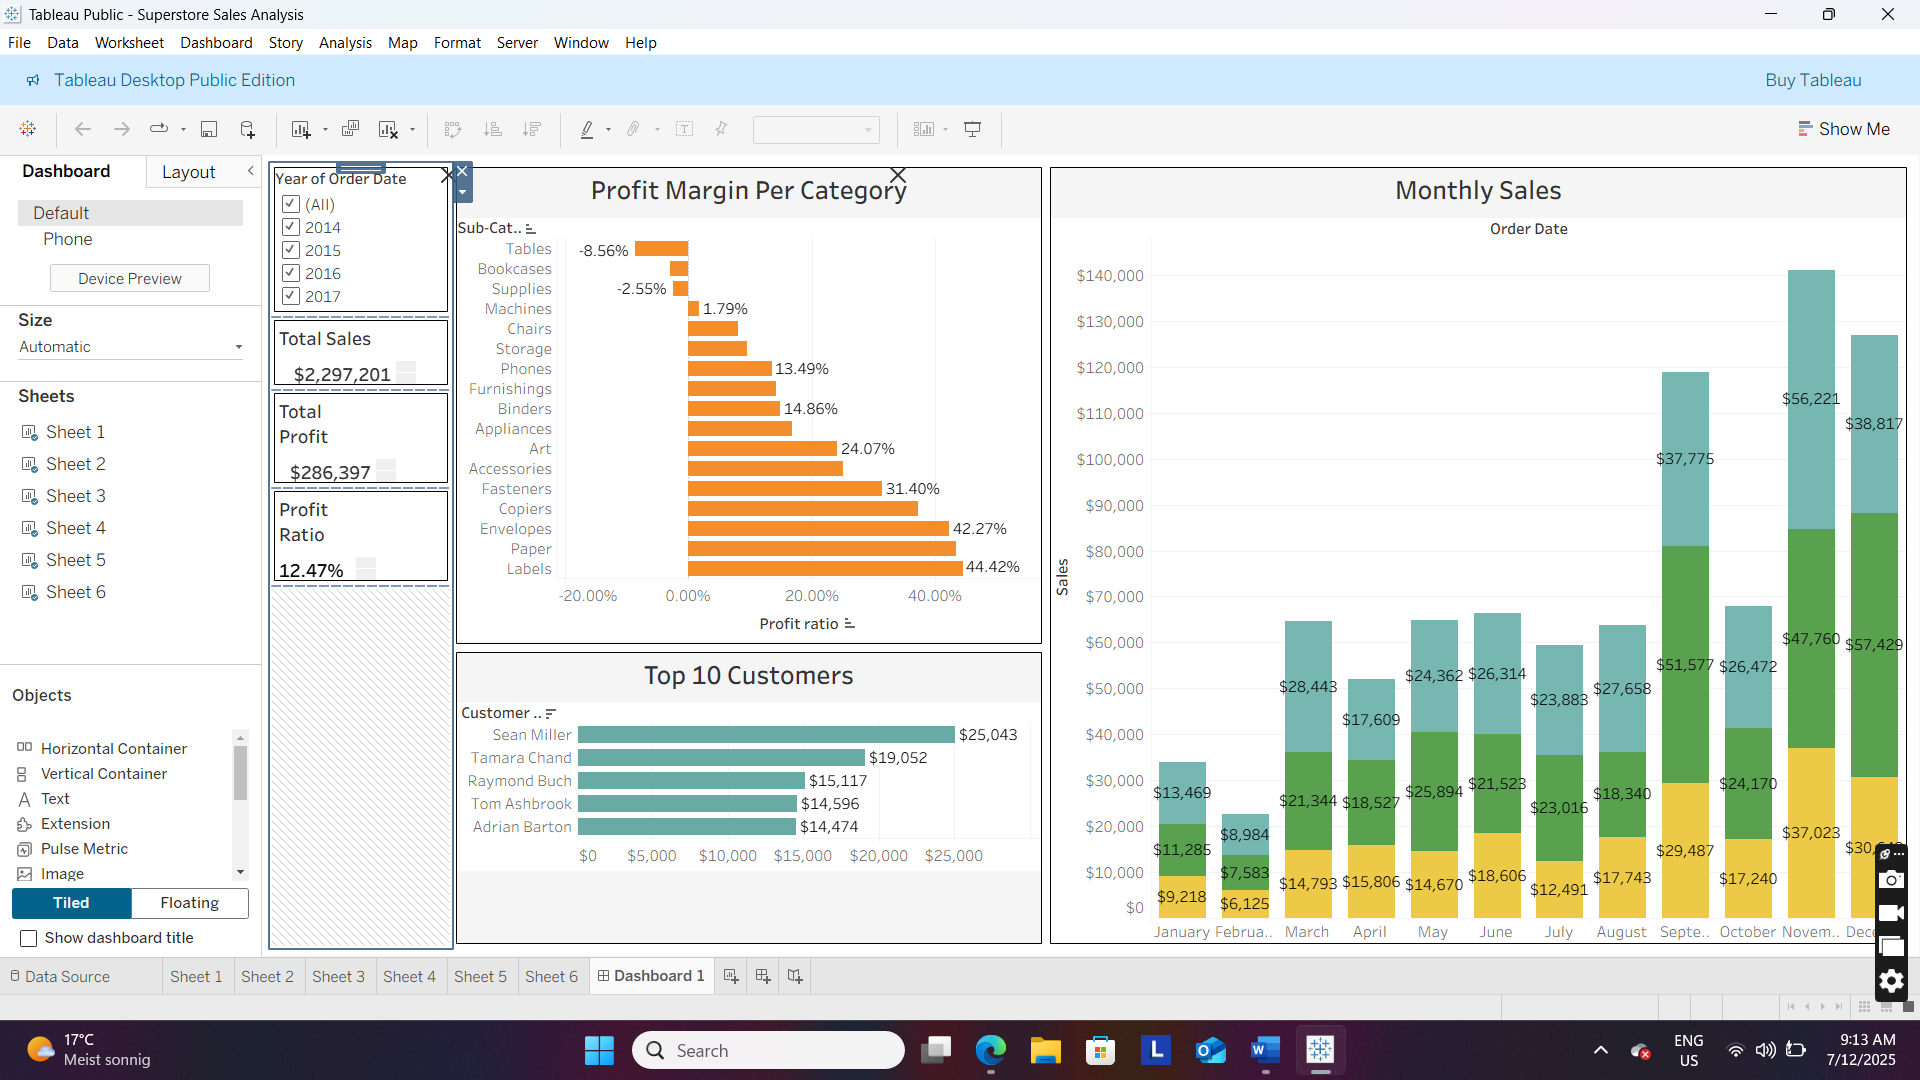

What the dashboard file says about the page in this screenshot:
{"tool":"tableau","page":{"name":"Dashboard 1","canvas":[1000,1000],"units":"permille","ordinal":0},"visuals":[{"type":"filter","title":"Sheet 1","param":"[federated.1v2qi7h1o6mk3v19wd5ka1uukvlk].[yr:Order Date:ok]","box":[4.8,10,109.8,191]},{"type":"dashboard-object","box":[105.6,10,14.5,30]},{"type":"worksheet","title":"Sheet 3","mark":"Automatic","rows":["Sub-Category"],"cols":["Calculation_1434115036089946115"],"box":[114.7,10,358.4,605.5]},{"type":"dashboard-object","box":[376.6,10,14.5,30]},{"type":"worksheet","title":"Sheet 1","mark":"Bar","rows":["Sales"],"cols":["Order Date"],"box":[473.1,10,522.1,980]},{"type":"worksheet","title":"Sheet 4","mark":"Automatic","box":[4.8,201,109.8,91.1]},{"type":"worksheet","title":"Sheet 5","mark":"Automatic","box":[4.8,292.1,109.8,122.4]},{"type":"worksheet","title":"Sheet 6","mark":"Automatic","box":[4.8,414.5,109.8,122.4]},{"type":"worksheet","title":"Sheet 2","mark":"Automatic","rows":["Customer Name"],"cols":["Sales"],"box":[114.7,615.5,358.4,374.5]}]}

Visuals, with their boxes on the dashboard's canvas, which has no fixed pixel size, in thousandths of its width and height (x1, y1, x2, y2). These are canvas units, not pixel positions in the 1920x1080 screenshot, which may show the page scaled, cropped or inside an application window:
"Sheet 1" filter: [5, 10, 115, 201]
dashboard-object: [106, 10, 120, 40]
"Sheet 3" worksheet: [115, 10, 473, 616]
dashboard-object: [377, 10, 391, 40]
"Sheet 1" worksheet (Bar marks): [473, 10, 995, 990]
"Sheet 4" worksheet: [5, 201, 115, 292]
"Sheet 5" worksheet: [5, 292, 115, 414]
"Sheet 6" worksheet: [5, 414, 115, 537]
"Sheet 2" worksheet: [115, 616, 473, 990]
